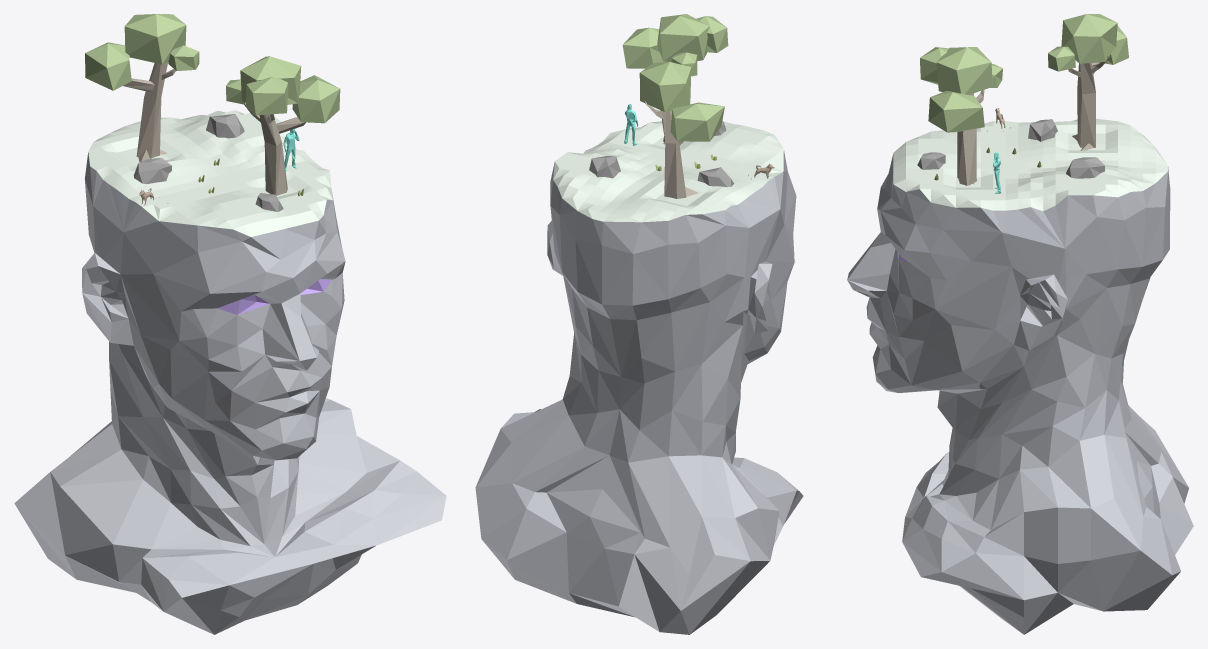
The model's file is human_illustrate.gltf.
3 renders of one model, left to right at view 1: azimuth 30°, elevation 25°; view 2: azimuth 150°, elevation 25°; view 3: azimuth 270°, elevation 25°, orthographic. The views are drawn at different scales.
Visible parts, largest first — view 1: SketchUp.001, SketchUp, SketchUp.089, SketchUp.059, SketchUp.027, SketchUp.029, SketchUp.023, SketchUp.024, SketchUp.062, SketchUp.055, SketchUp.054, SketchUp.058; view 2: SketchUp.001, SketchUp, SketchUp.089, SketchUp.029, SketchUp.059, SketchUp.027, SketchUp.062, SketchUp.023, SketchUp.054, SketchUp.055; view 3: SketchUp.001, SketchUp, SketchUp.089, SketchUp.029, SketchUp.027, SketchUp.062, SketchUp.024, SketchUp.054, SketchUp.023, SketchUp.058, SketchUp.055, SketchUp.063.
Part boxes in pixels (x1,y1,x2,y2): SketchUp.001: [14, 152, 446, 634]; SketchUp: [88, 110, 332, 236]; SketchUp.089: [124, 14, 186, 64]; SketchUp.059: [85, 42, 131, 90]; SketchUp.027: [292, 75, 340, 123]; SketchUp.029: [240, 56, 301, 104]; SketchUp.023: [246, 77, 288, 115]; SketchUp.024: [264, 142, 287, 195]; SketchUp.062: [136, 96, 161, 158]; SketchUp.055: [133, 158, 171, 184]; SketchUp.054: [206, 114, 244, 138]; SketchUp.058: [168, 45, 199, 70]; SketchUp.001: [475, 151, 803, 634]; SketchUp: [553, 121, 783, 222]; SketchUp.089: [639, 62, 691, 111]; SketchUp.029: [657, 14, 709, 62]; SketchUp.059: [670, 102, 724, 141]; SketchUp.027: [622, 27, 666, 68]; SketchUp.062: [664, 141, 686, 198]; SketchUp.023: [696, 16, 728, 52]; SketchUp.054: [589, 156, 620, 178]; SketchUp.055: [697, 167, 734, 187]; SketchUp.001: [847, 154, 1193, 634]; SketchUp: [893, 118, 1167, 211]; SketchUp.089: [1061, 14, 1117, 63]; SketchUp.029: [936, 47, 992, 94]; SketchUp.027: [928, 91, 984, 132]; SketchUp.062: [1077, 89, 1095, 147]; SketchUp.024: [957, 129, 976, 185]; SketchUp.054: [1066, 157, 1104, 178]; SketchUp.023: [920, 47, 948, 84]; SketchUp.058: [1048, 46, 1075, 71]; SketchUp.055: [1028, 119, 1057, 141]; SketchUp.063: [1076, 63, 1099, 94].
Size of the model in its own units: 10.64 by 18.4 by 10.17.
